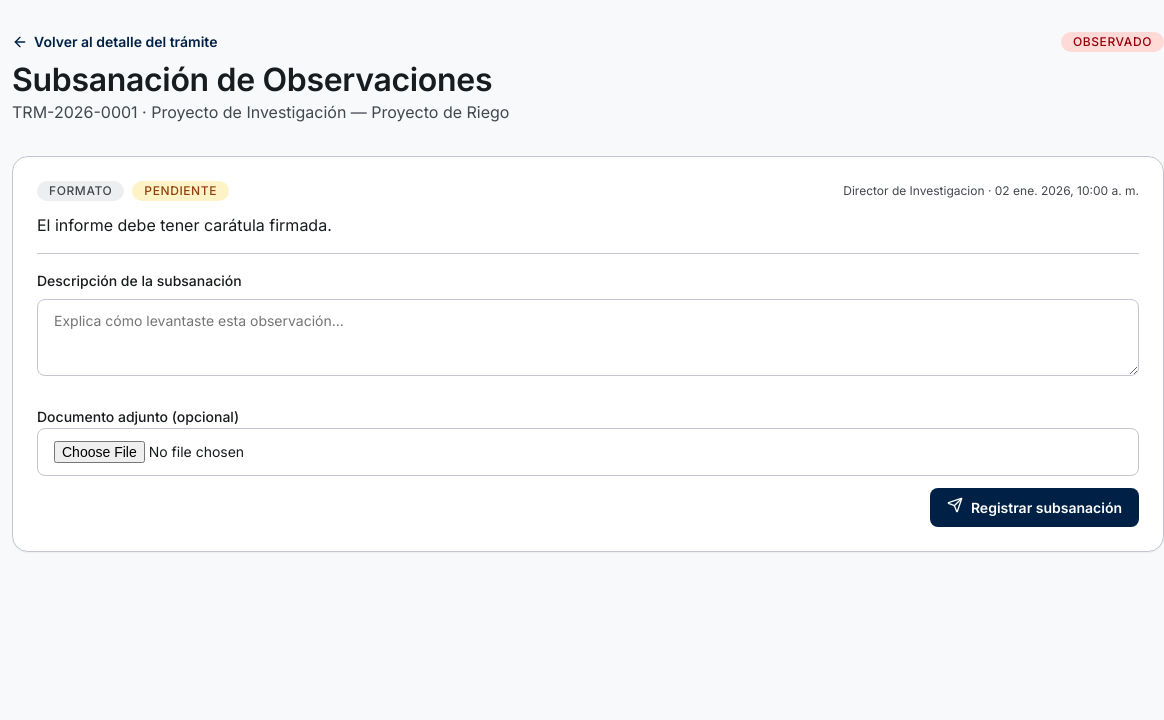
Test: SubsanacionPanel › registers a subsanacion for a pending observation
The width and height of the screenshot is (1164, 720).
Type "Se adjunta carátula firmada." into the text box labelled "Descripción de la subsanación" at (588, 338), box [37,299,1139,376]
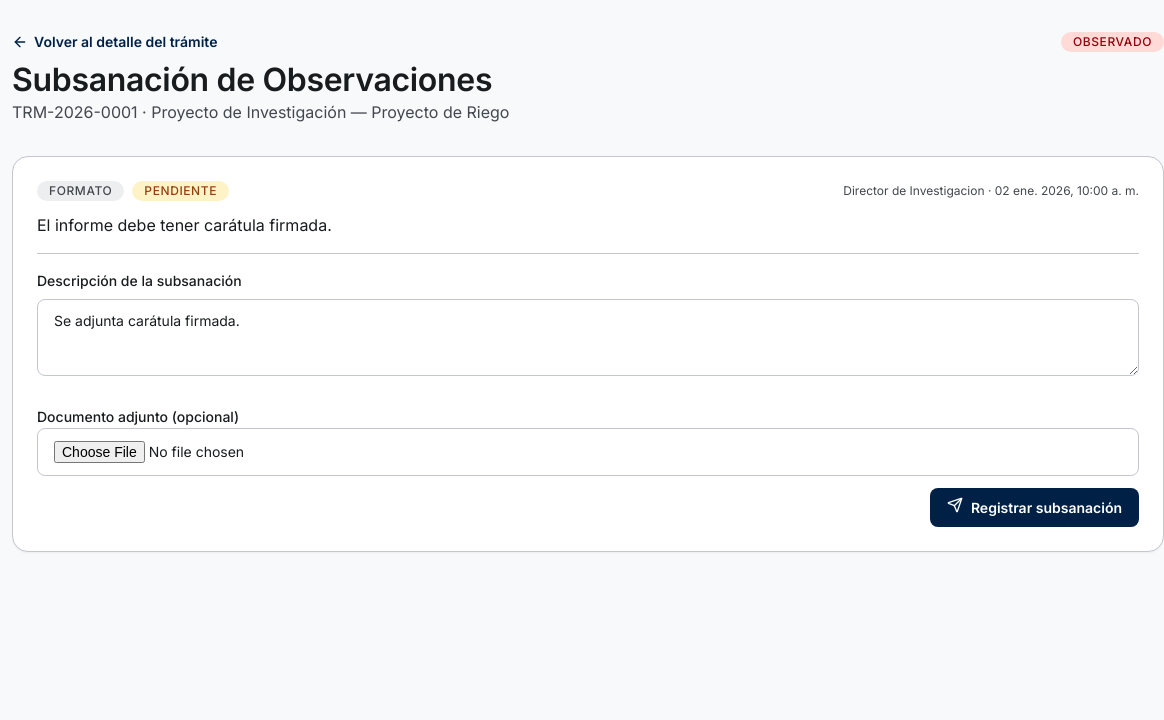
Click the button "Registrar subsanación" at (1034, 508), box [930,488,1139,527]
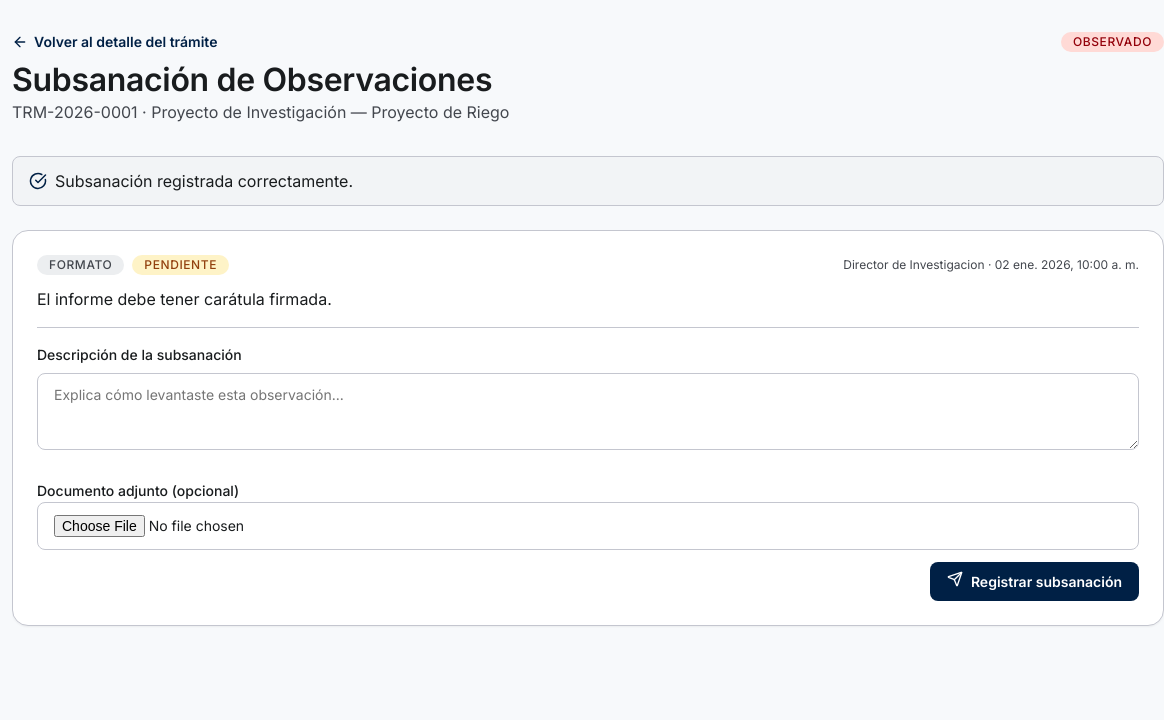
Expected: the text "Subsanación registrada correctamente." is shown, [55,169,353,193]
